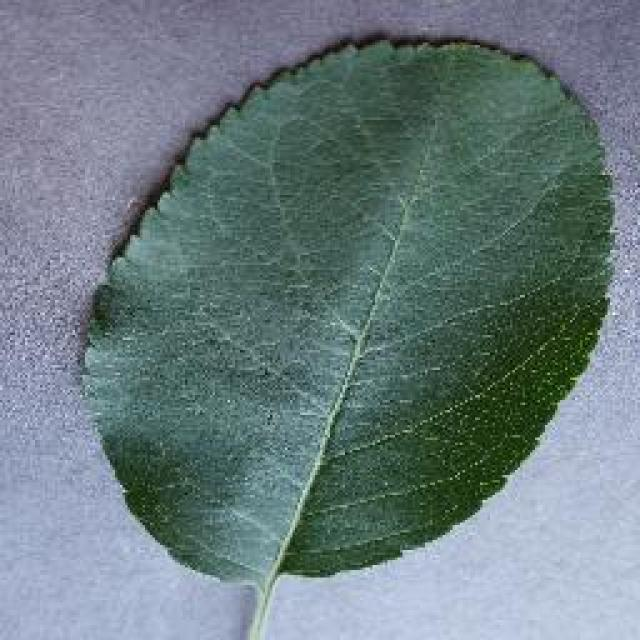apple healthy: (75, 30, 617, 638)
